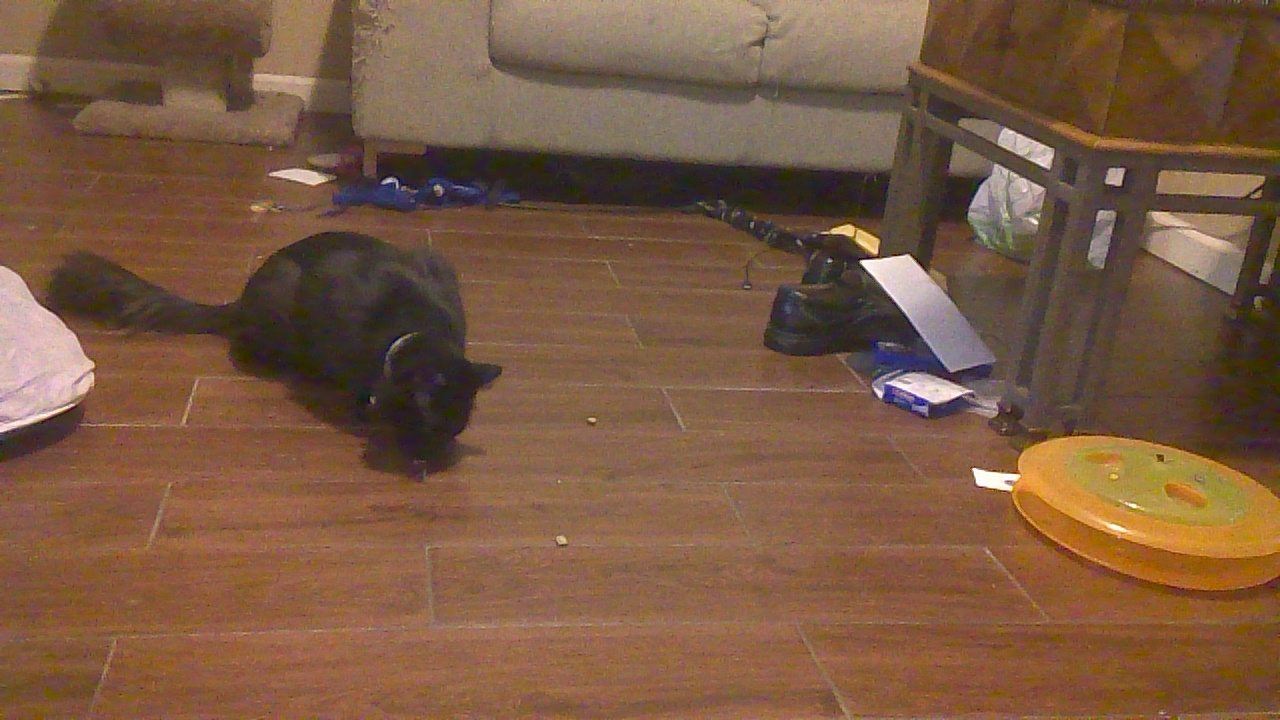cat: (47, 228, 495, 471)
